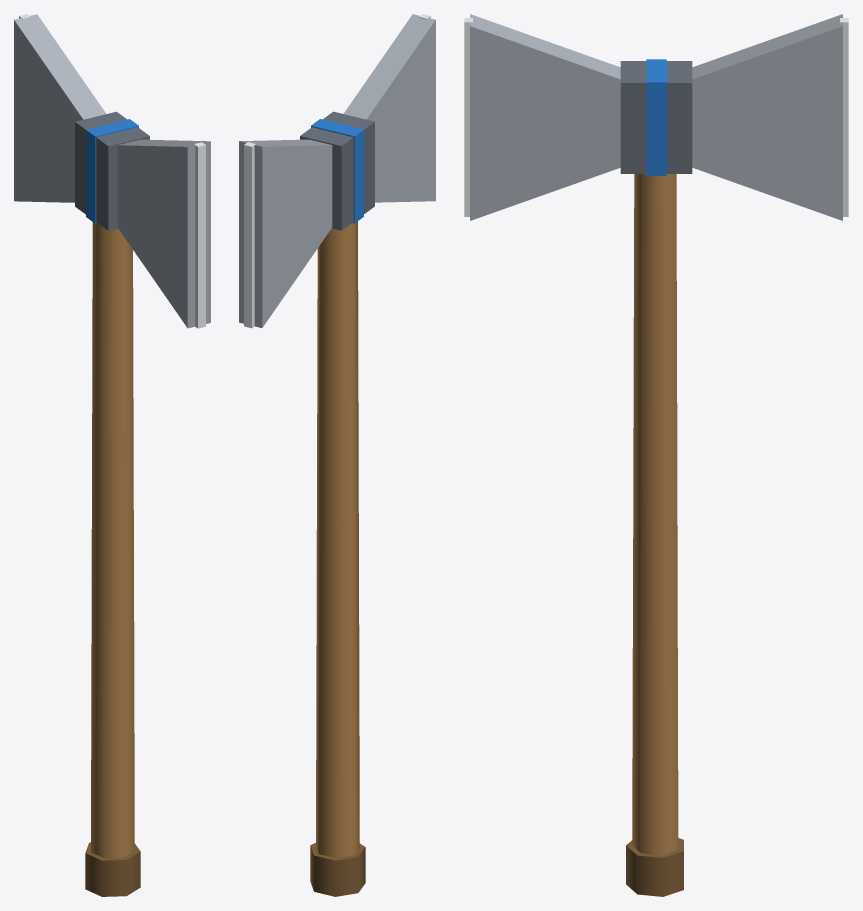
File: tool_double_bit.glb
3 views of the same model, side by side, from view 1: azimuth 30°, elevation 25°; view 2: azimuth 150°, elevation 25°; view 3: azimuth 270°, elevation 25° (orthographic). The views are drawn at different scales.
Visible parts, largest first — view 1: _MeshInstance3D_846, _MeshInstance3D_851, _MeshInstance3D_849, _MeshInstance3D_848, _MeshInstance3D_847, _MeshInstance3D_852, _MeshInstance3D_853; view 2: _MeshInstance3D_846, _MeshInstance3D_849, _MeshInstance3D_851, _MeshInstance3D_848, _MeshInstance3D_847, _MeshInstance3D_850, _MeshInstance3D_853; view 3: _MeshInstance3D_846, _MeshInstance3D_849, _MeshInstance3D_851, _MeshInstance3D_848, _MeshInstance3D_847, _MeshInstance3D_853, _MeshInstance3D_850, _MeshInstance3D_852.
Boxes of the visible parts, x1,y1,x2,y2 form: _MeshInstance3D_846: (91, 222, 134, 858); _MeshInstance3D_851: (117, 139, 210, 328); _MeshInstance3D_849: (14, 14, 106, 202); _MeshInstance3D_848: (75, 111, 149, 230); _MeshInstance3D_847: (85, 842, 140, 896); _MeshInstance3D_852: (194, 142, 205, 328); _MeshInstance3D_853: (86, 119, 138, 223); _MeshInstance3D_846: (316, 221, 359, 858); _MeshInstance3D_849: (239, 139, 332, 327); _MeshInstance3D_851: (343, 14, 435, 202); _MeshInstance3D_848: (300, 111, 374, 230); _MeshInstance3D_847: (310, 843, 365, 896); _MeshInstance3D_850: (244, 142, 255, 328); _MeshInstance3D_853: (311, 119, 363, 223); _MeshInstance3D_846: (632, 174, 678, 855); _MeshInstance3D_849: (692, 14, 842, 220); _MeshInstance3D_851: (470, 14, 620, 220); _MeshInstance3D_848: (620, 61, 692, 173); _MeshInstance3D_847: (626, 838, 683, 896); _MeshInstance3D_853: (646, 59, 666, 175); _MeshInstance3D_850: (840, 18, 848, 216); _MeshInstance3D_852: (464, 18, 472, 216).
Size of the model in its own units: 0.0414 by 0.665 by 0.268.
